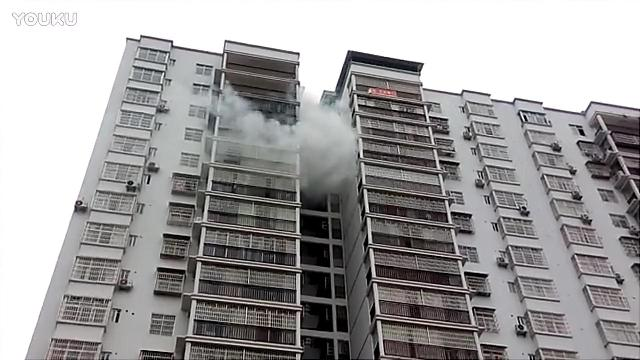smoke: (277, 101, 359, 199), (216, 79, 274, 159)
